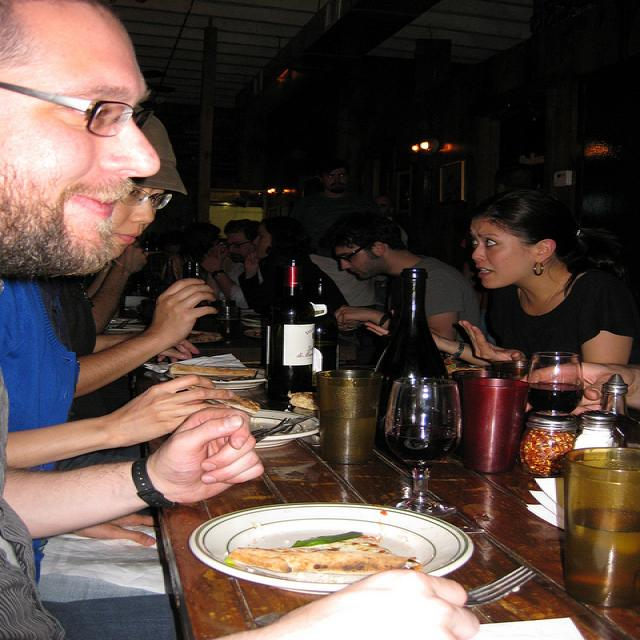Bottle: (372, 244, 474, 411), (261, 258, 352, 415)
Cup: (550, 447, 640, 602), (295, 363, 406, 484), (445, 374, 529, 487), (386, 372, 476, 470), (532, 337, 594, 432)
People: (17, 2, 160, 447), (437, 184, 605, 354), (185, 170, 313, 319), (319, 212, 434, 330)
